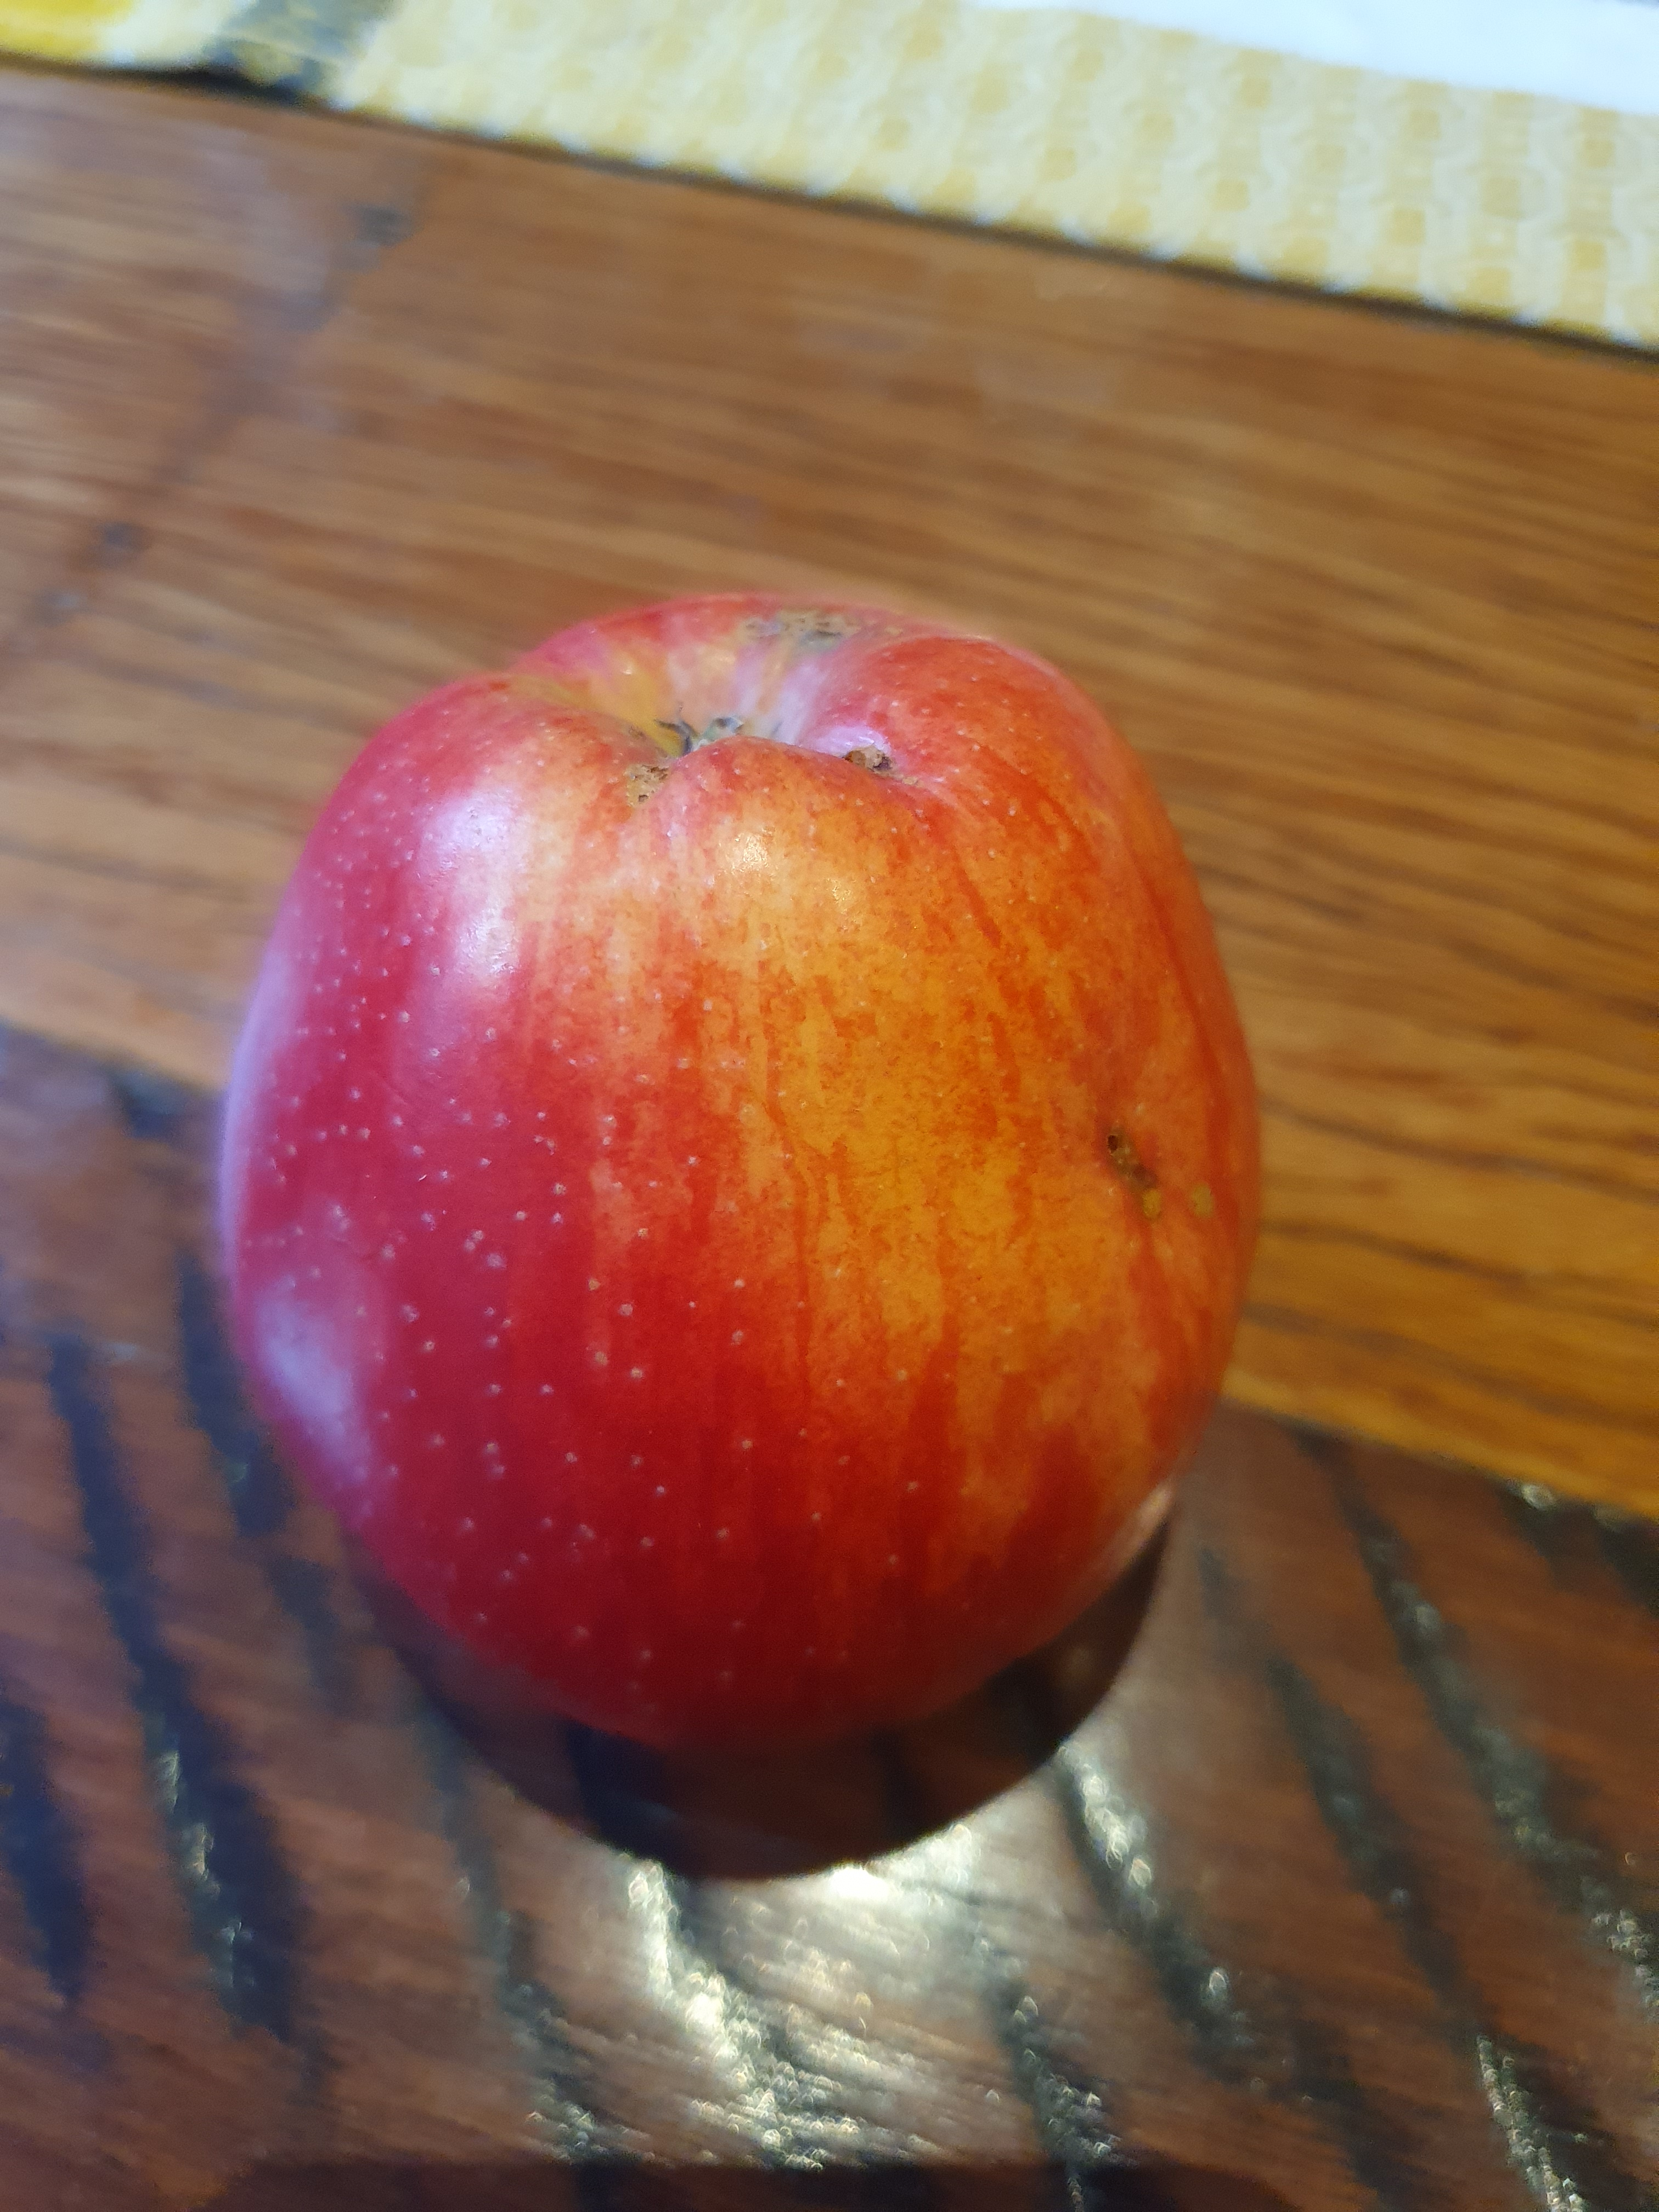red apple: (223, 540, 1279, 1787)
